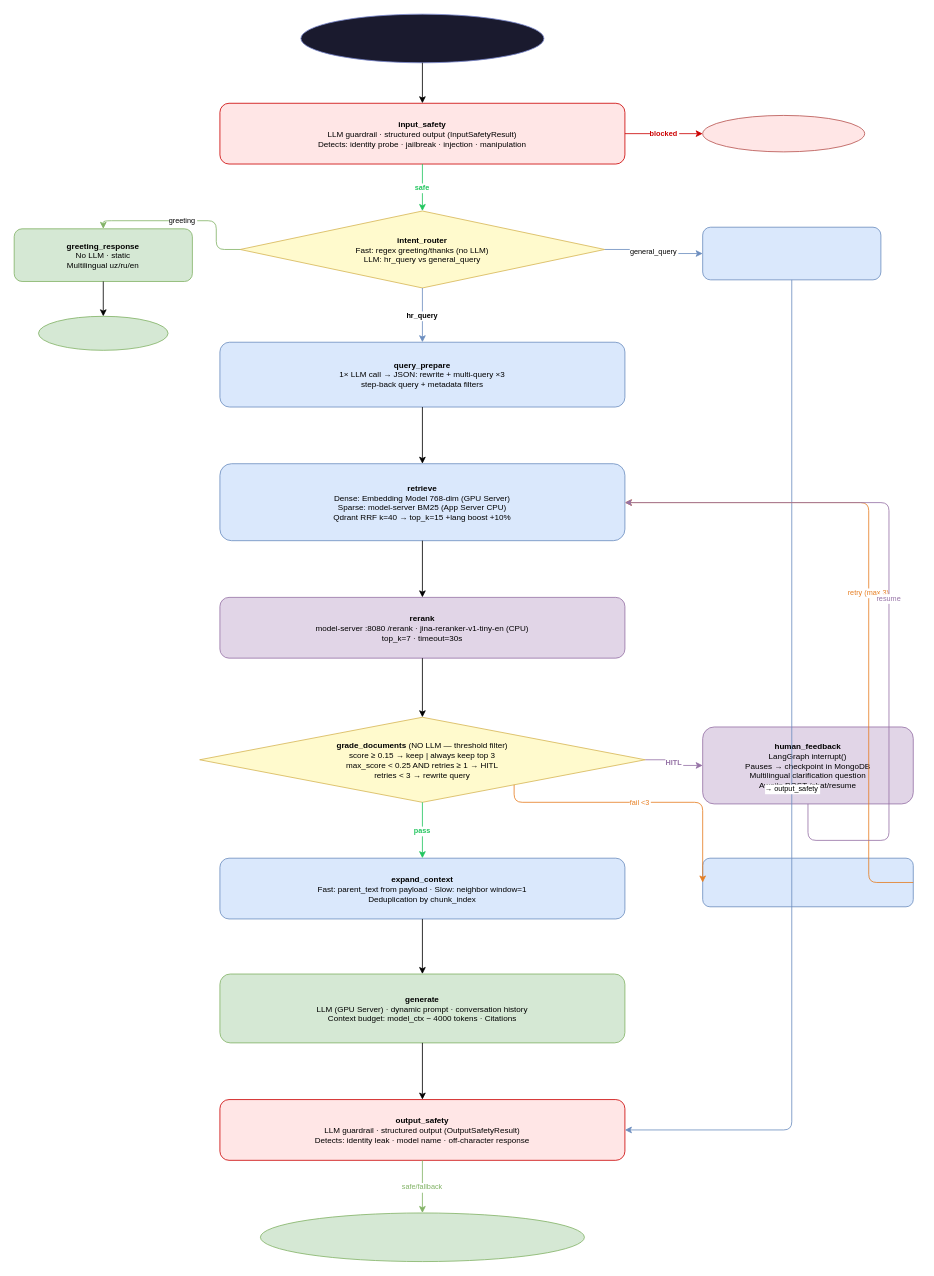
Some shapes in this 934 by 1276 pixel diagram are drawn without their labels. Here are the shapes that lost their labels. From the top down, the centre of each, then its label:
At (422,38): "▶ START user query + thread_id".
At (783,133): "END Canned safe response".
At (791,253): "general_response Direct LLM · no RAG".
At (103,332): "END (greeting)".
At (807,882): "rewrite_query LLM reformulates · retries++ (max 3)".
At (422,1237): "✅ END — Answer + Sources (SSE: generation)".
